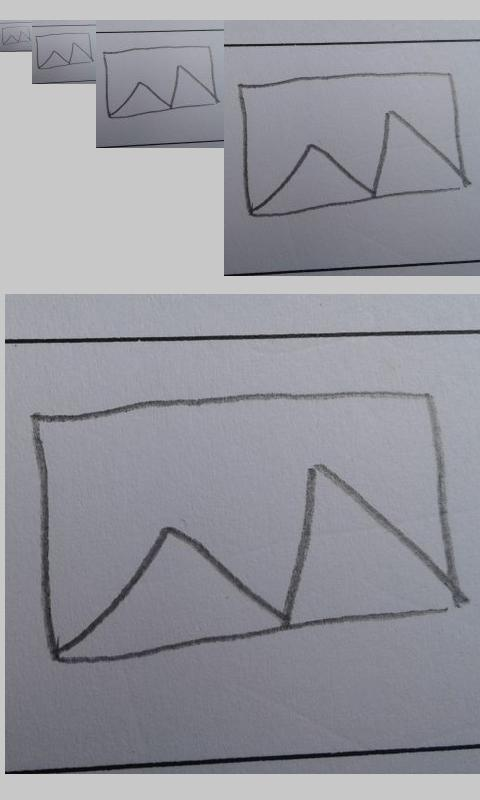image_view: (28, 387, 463, 664), (237, 70, 465, 218), (102, 44, 219, 121), (34, 32, 92, 70), (1, 25, 31, 47)
